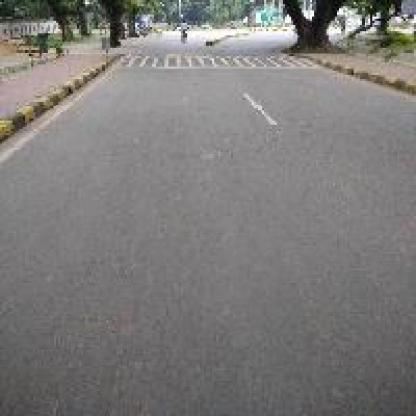Speed Bump: (108, 54, 310, 71)
